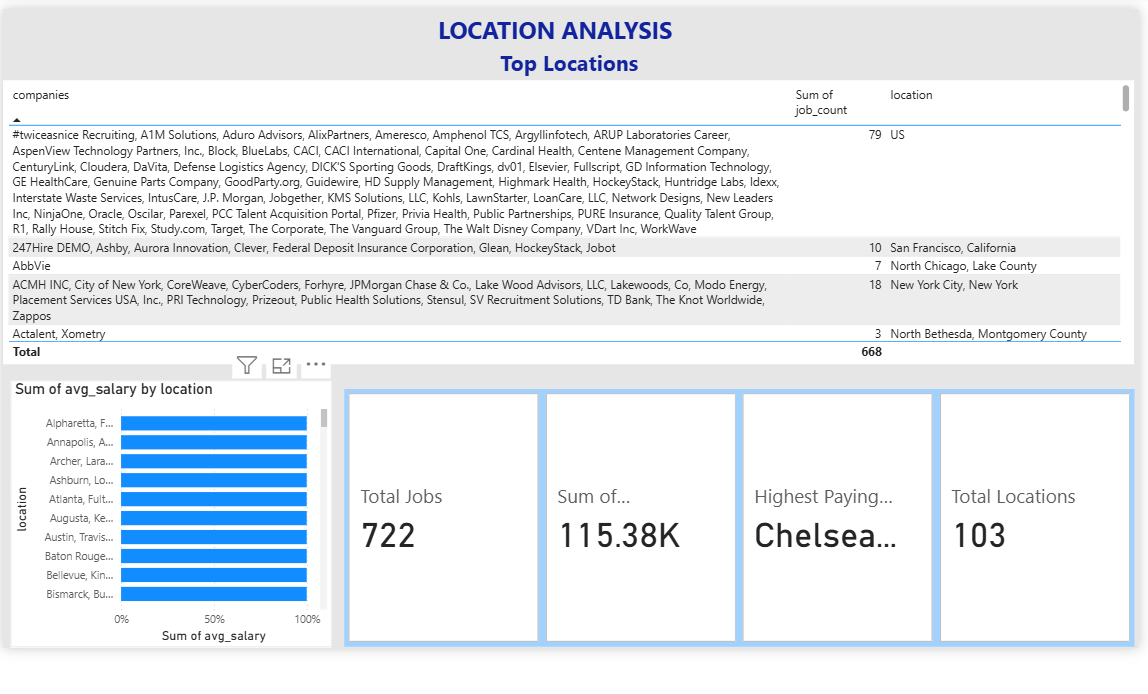

Layout of this report page (visuals, bound fields, positions):
{"tool":"powerbi","page":{"name":"Page 4","canvas":[1280,720],"ordinal":3},"visuals":[{"type":"textbox","box":[9.5,0,1224.3,79.7],"z":0},{"type":"tableEx","title":"Top Companies in Highest-Paying Locations","fields":{"Values":["job_analysis_db view_top_companies_by_location.company","job_analysis_db view_top_companies_by_location.average_salary","job_analysis_db view_top_companies_by_location.location","job_analysis_db view_top_companies_by_location.job_count"]},"box":[4.1,253.9,680.6,211.3],"z":1000},{"type":"hundredPercentStackedBarChart","title":"Top 5 Locations by Avg Salary","fields":{"Category":["job_analysis_db view_top_locations_by_jobs.location"],"Y":["Sum(job_analysis_db view_top_locations_by_jobs.average_salary)"]},"box":[698.8,281,534.5,400],"z":2000},{"type":"cardVisual","fields":{"Data":["job_analysis_db view_company_analysis.Total Jobs","Sum(job_analysis_db view_job_summary.average_salary)","job_analysis_db view_location_analysis.Highest Paying Location","job_analysis_db view_location_analysis.Total Locations"]},"box":[4.8,51.2,1270.2,161.9],"z":3000},{"type":"tableEx","title":"Sample Salary Ranges by Location","fields":{"Values":["job_analysis_db view_location_salary_distribution.location","job_analysis_db view_location_salary_distribution.salary_range"]},"box":[0,505,684.7,188],"z":4000}]}

Visuals, with their boxes on the page's 1280x720 design canvas (x1, y1, x2, y2). These are canvas units, not pixel positions in the 1148x694 screenshot, which may show the page scaled, cropped or inside an application window:
textbox: {"x1": 10, "y1": 0, "x2": 1234, "y2": 80}
"Top Companies in Highest-Paying Locations" tableEx: {"x1": 4, "y1": 254, "x2": 685, "y2": 465}
"Top 5 Locations by Avg Salary" hundredPercentStackedBarChart: {"x1": 699, "y1": 281, "x2": 1233, "y2": 681}
cardVisual - job_analysis_db view_company_analysis.Total Jobs x Sum(job_analysis_db view_job_summary.average_salary): {"x1": 5, "y1": 51, "x2": 1275, "y2": 213}
"Sample Salary Ranges by Location" tableEx: {"x1": 0, "y1": 505, "x2": 685, "y2": 693}
